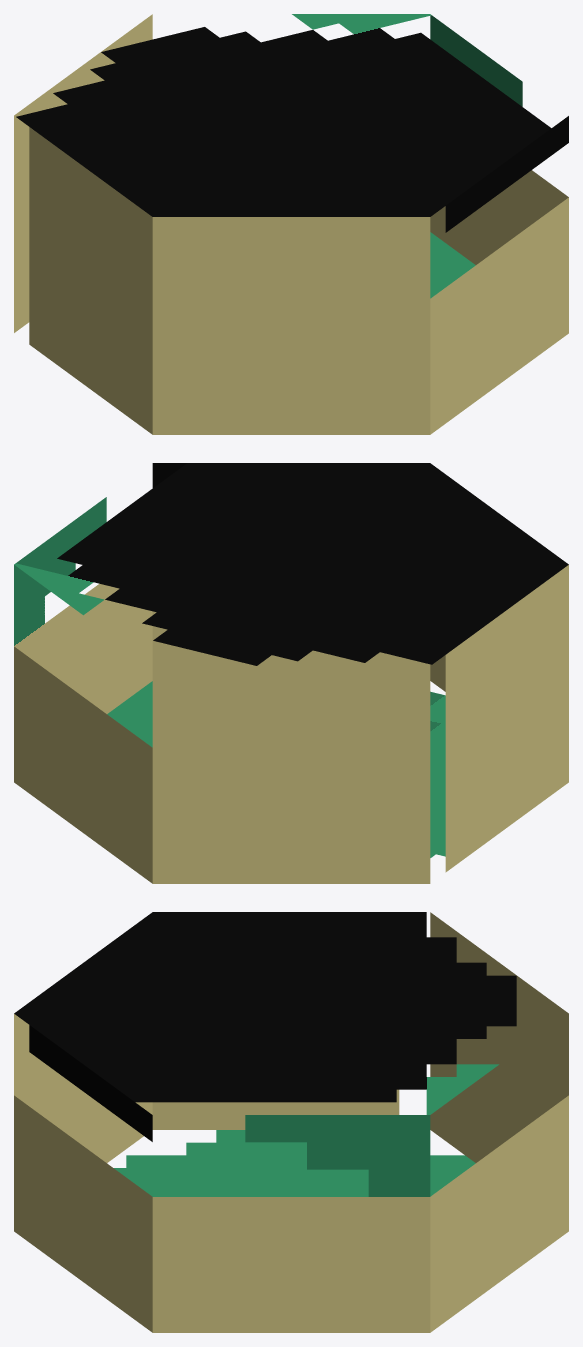
File: grass.obj
The picture shows the model from 3 angles, top to bottom: view 1: azimuth 30°, elevation 25°; view 2: azimuth 150°, elevation 25°; view 3: azimuth 270°, elevation 25°; orthographic projection.
Parts seen in each view (by area): view 1: cylinder; view 2: cylinder; view 3: cylinder.
Part boxes in pixels (x1=…): cylinder: x1=14, y1=14, x2=568, y2=434; cylinder: x1=14, y1=463, x2=568, y2=883; cylinder: x1=14, y1=912, x2=568, y2=1332.
Bounding box in the file's own units: 1 × 0.5 × 1.15.
1 material, 1 textured.
